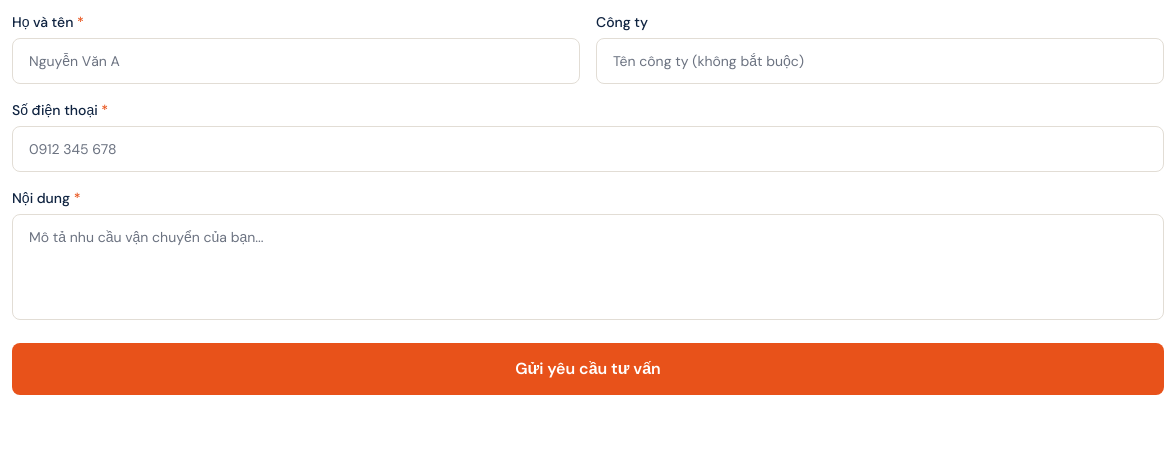
Test: ContactForm — validation › shows error when content < 10 chars
This screenshot has width=1176, height=472.
Type "Too short" into the text box labelled "Nội dung *" at (588, 267), box [12,214,1164,320]
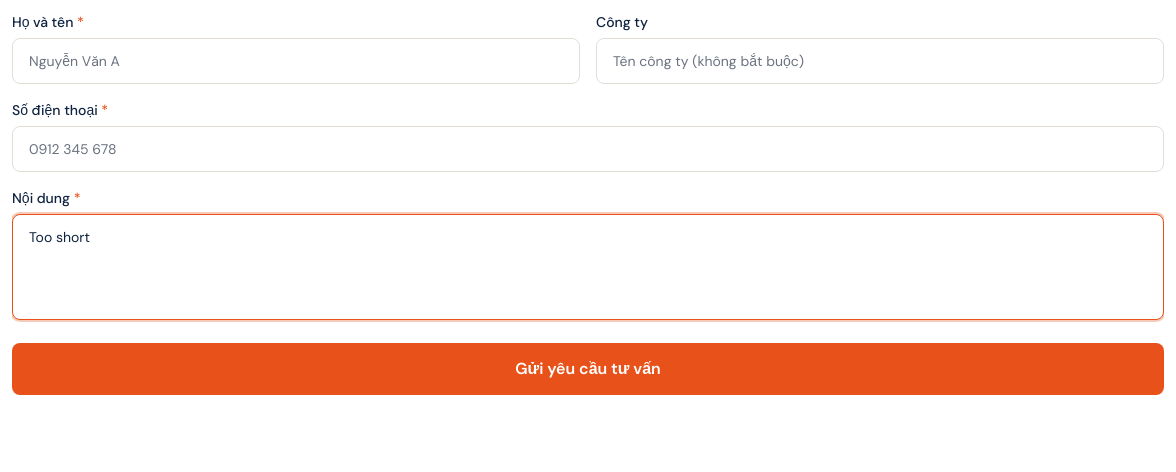
Click the button "Gửi yêu cầu tư vấn" at (588, 369), box [12,343,1164,395]
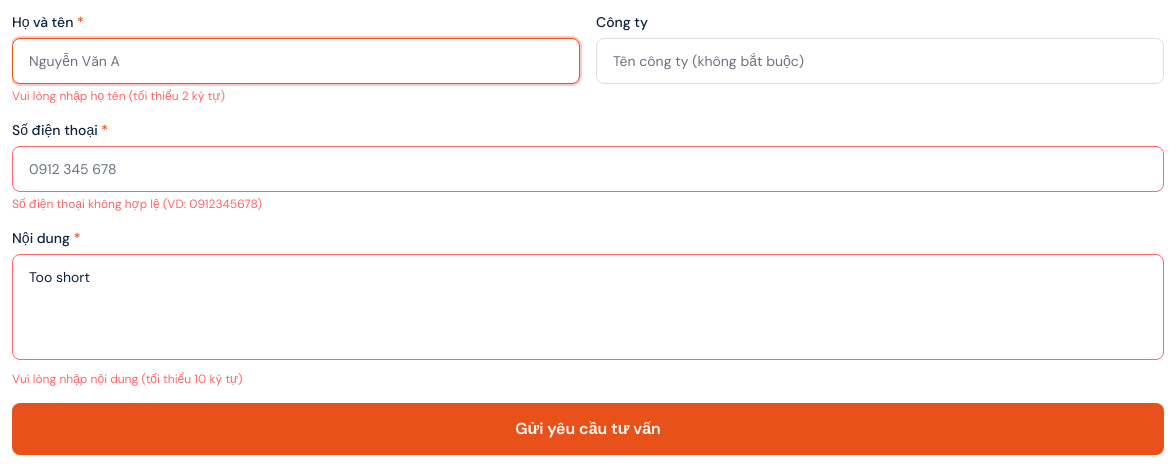
Check: the text "Vui lòng nhập nội dung (tối thiểu 10 ký tự)" is shown, box [12,371,243,387]
